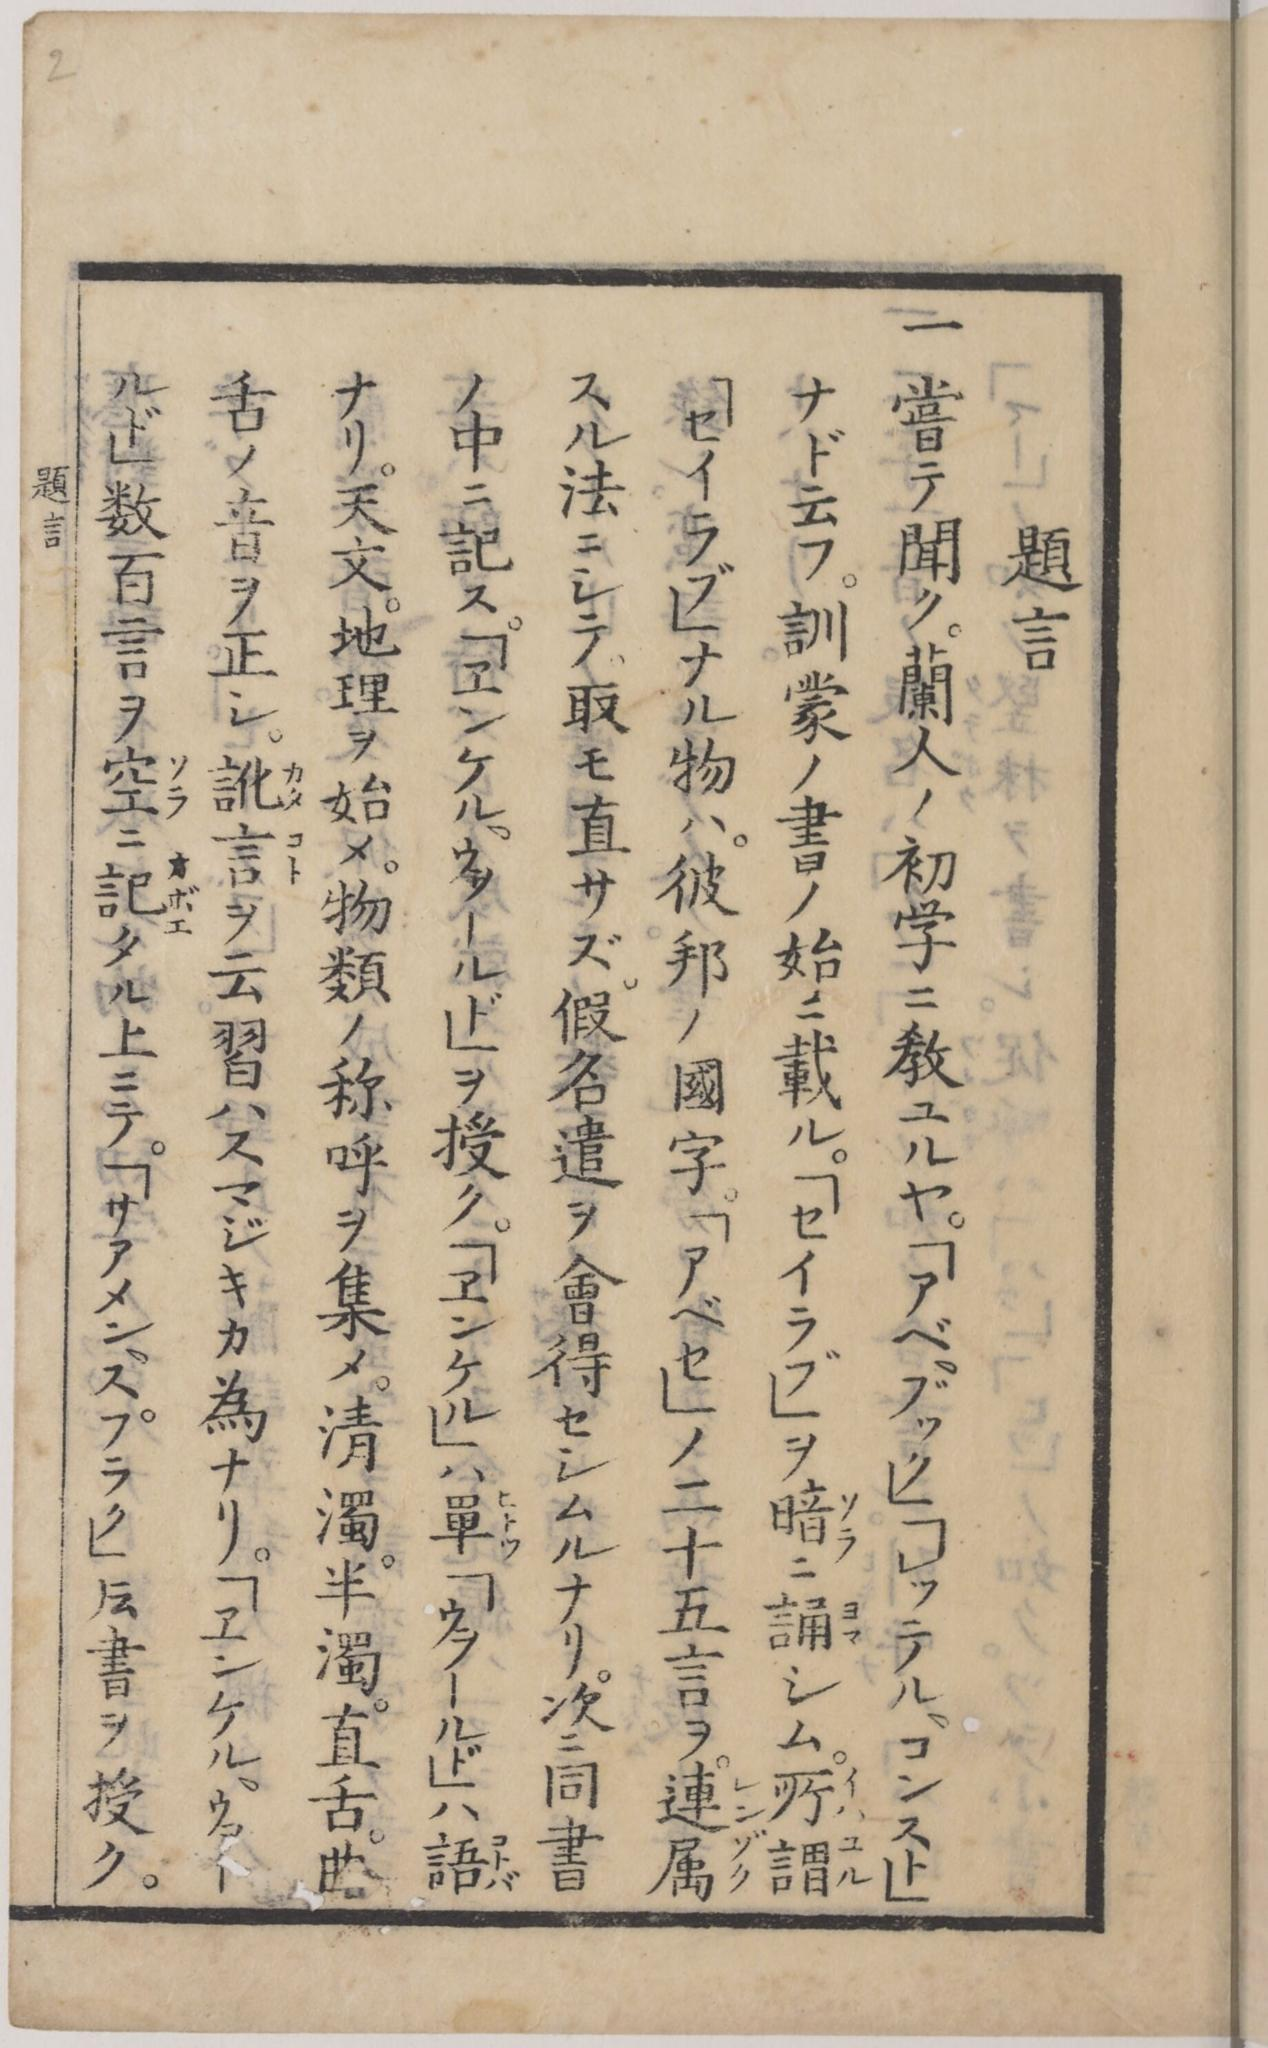MainZone-Character: (79, 856, 199, 935), (654, 1830, 761, 1910), (646, 1760, 763, 1833), (417, 1826, 525, 1902), (762, 1482, 866, 1559), (768, 1831, 872, 1908), (89, 746, 195, 821), (206, 750, 314, 815), (208, 822, 309, 888), (433, 1489, 525, 1561), (762, 1587, 864, 1652), (768, 1764, 866, 1826)
MainZone-Ruby: (159, 856, 197, 935), (834, 1831, 876, 1894), (483, 1829, 519, 1899), (832, 1488, 867, 1561), (725, 1829, 761, 1897), (493, 1488, 525, 1559), (728, 1773, 765, 1829), (837, 1764, 867, 1830), (162, 748, 190, 818), (837, 1593, 867, 1654), (281, 824, 309, 888), (278, 755, 312, 806)
